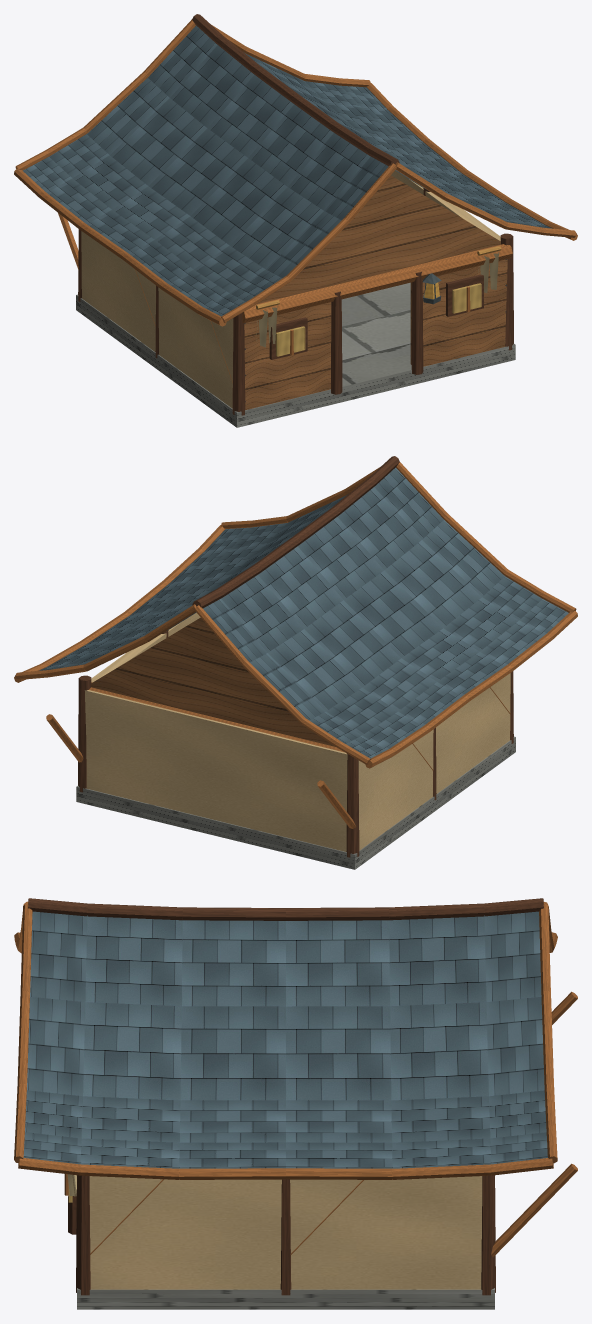
Rendered from house_d.glb.
3 views of the same model, one above another, from view 1: azimuth 30°, elevation 25°; view 2: azimuth 150°, elevation 25°; view 3: azimuth 270°, elevation 25° (orthographic). The views are drawn at different scales.
Visible parts, largest first — view 1: house_d_F4; view 2: house_d_F4; view 3: house_d_F4.
Boxes of the visible parts, x1=… form: house_d_F4: x1=14, y1=14, x2=577, y2=427; house_d_F4: x1=14, y1=456, x2=577, y2=869; house_d_F4: x1=14, y1=898, x2=577, y2=1309.
Bounding box in the file's own units: 9.39 × 6.22 × 9.84.
1 material, 1 textured.
